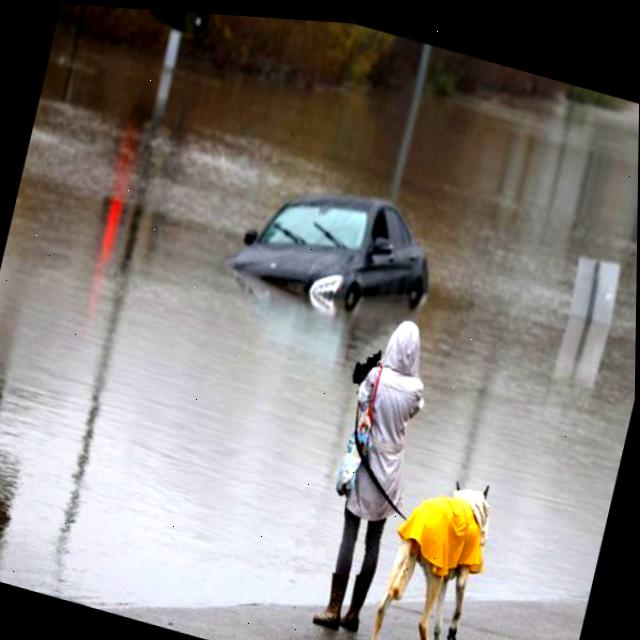civilian: (272, 295, 458, 640)
dog: (351, 438, 522, 640)
